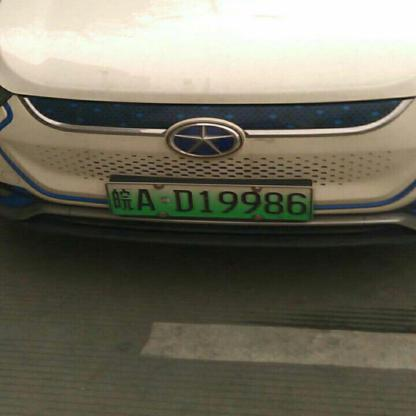lp: (105, 184, 312, 219)
